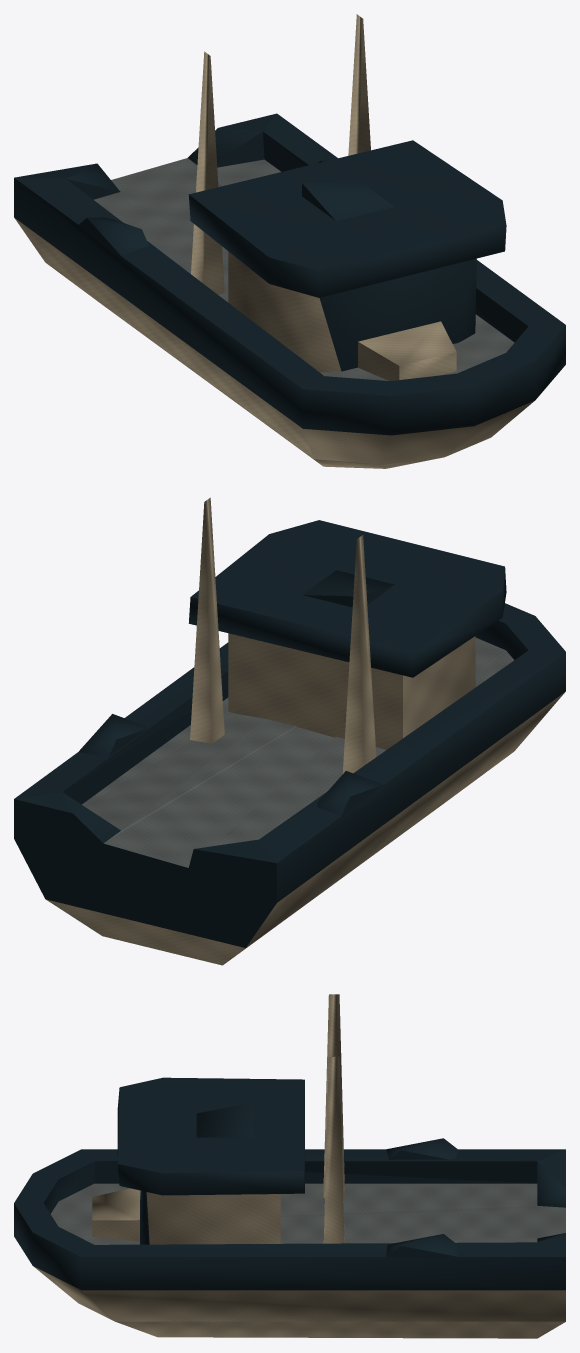
File: harbour-boat-lod.glb
3 views of the same model, one above another, from view 1: azimuth 30°, elevation 25°; view 2: azimuth 150°, elevation 25°; view 3: azimuth 270°, elevation 25° (orthographic). The views are drawn at different scales.
Visible parts, largest first — view 1: harbour-boat-boat-fishing-small; view 2: harbour-boat-boat-fishing-small; view 3: harbour-boat-boat-fishing-small.
Part boxes in pixels (bbox=[...]): harbour-boat-boat-fishing-small: bbox=[14, 14, 565, 468]; harbour-boat-boat-fishing-small: bbox=[14, 497, 565, 965]; harbour-boat-boat-fishing-small: bbox=[14, 994, 565, 1338].
Size of the model in its own units: 2.4 by 3 by 5.2.
3 materials, 3 textured.
